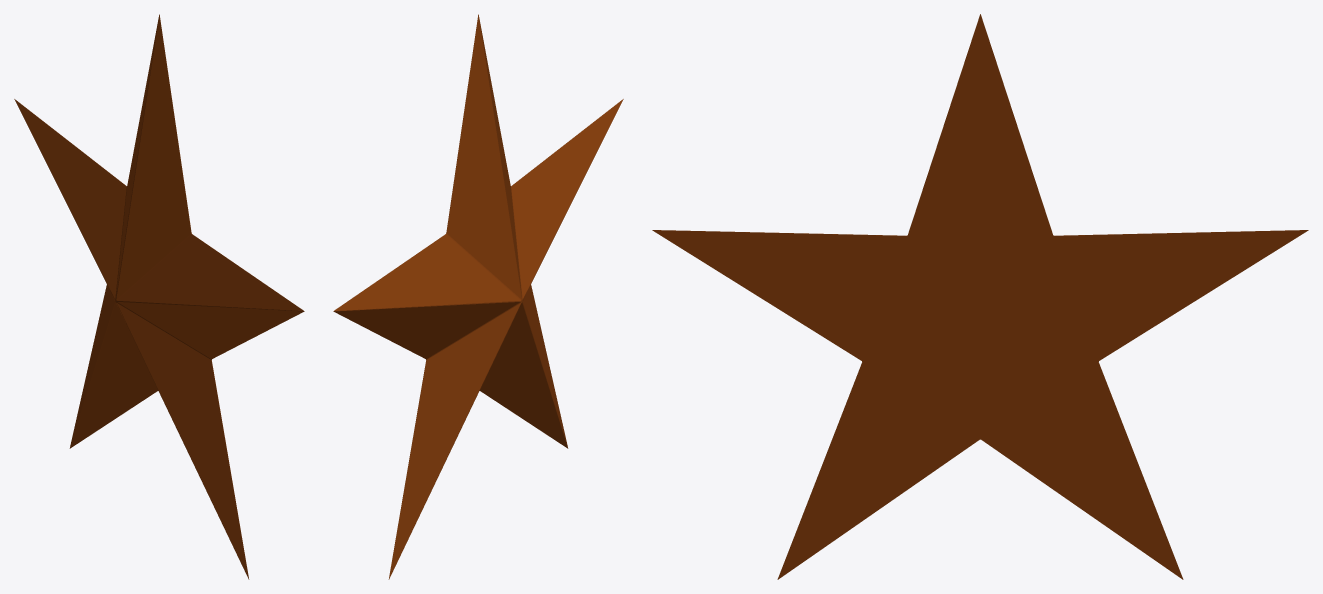
The model's file is Gold_Star.obj.
3 views of the same model, side by side, from view 1: azimuth 30°, elevation 25°; view 2: azimuth 150°, elevation 25°; view 3: azimuth 270°, elevation 25° (orthographic). The views are drawn at different scales.
Parts seen in each view (by area): view 1: Star001; view 2: Star001; view 3: Star001.
Part boxes in pixels (x1=…): Star001: x1=14, y1=14, x2=304, y2=579; Star001: x1=333, y1=14, x2=623, y2=579; Star001: x1=652, y1=14, x2=1308, y2=579.
Bounding box in the file's own units: 3.23 × 35.48 × 37.3.
